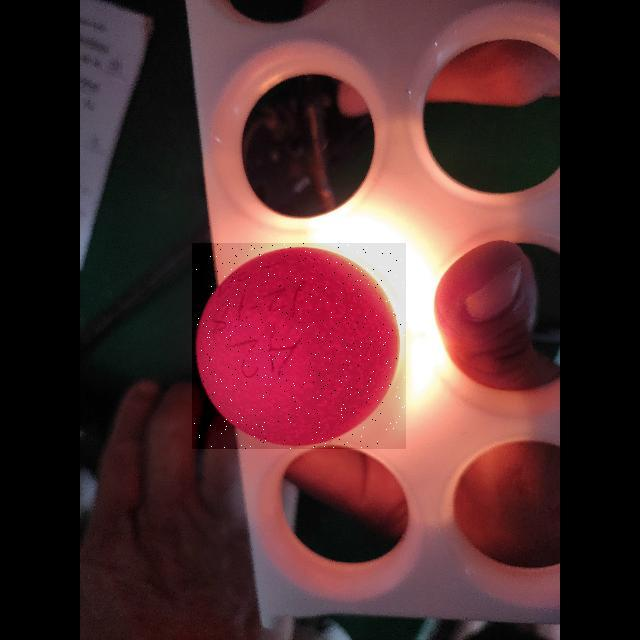Infertile: (192, 243, 406, 449)
